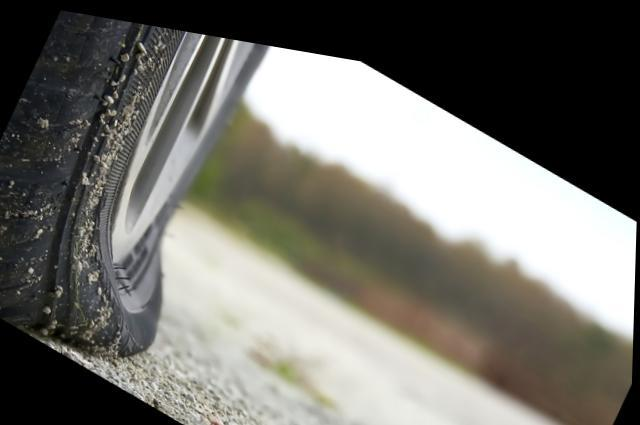tire flat: (0, 8, 271, 355)
